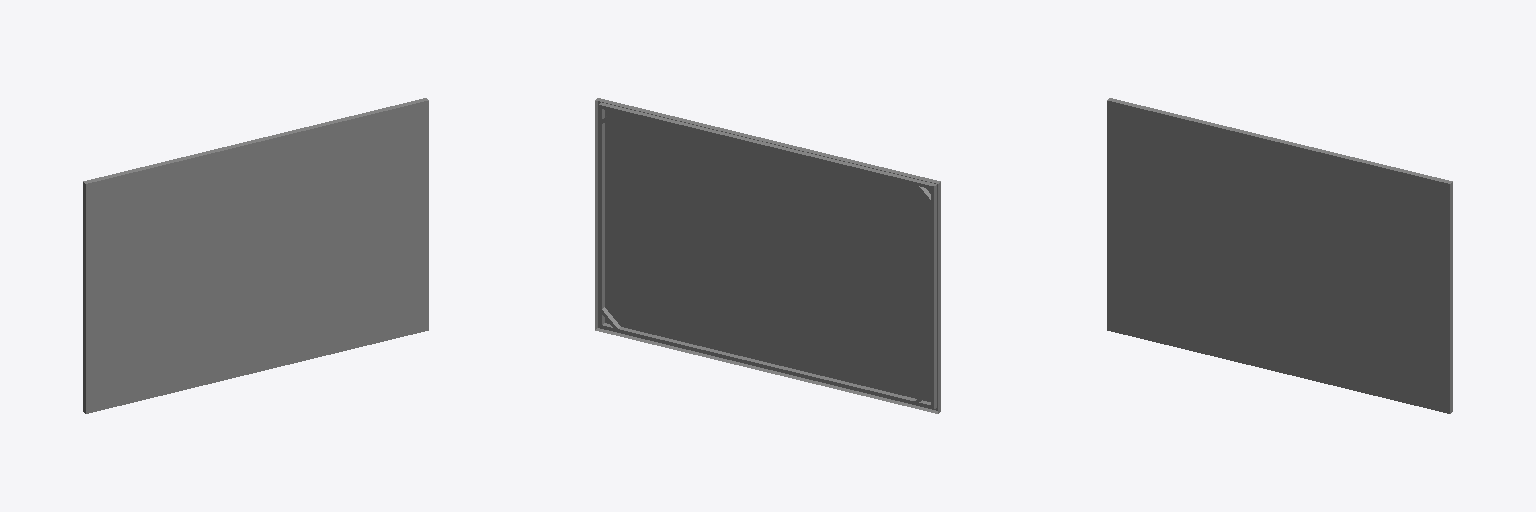
The model's file is cuadro1.obj.
3 renders of one model, left to right at view 1: azimuth 30°, elevation 25°; view 2: azimuth 150°, elevation 25°; view 3: azimuth 330°, elevation 25°, orthographic.
Parts seen in each view (by area): view 1: Canvas7; view 2: Canvas7, Metal7; view 3: Canvas7.
Boxes of the visible parts, box(x1,y1,x2,y2) form: Canvas7: box(83, 98, 428, 413); Canvas7: box(595, 98, 940, 413); Metal7: box(598, 102, 936, 408); Canvas7: box(1107, 98, 1452, 413).
Size of the model in its own units: 76.25 by 48.8 by 1.29.